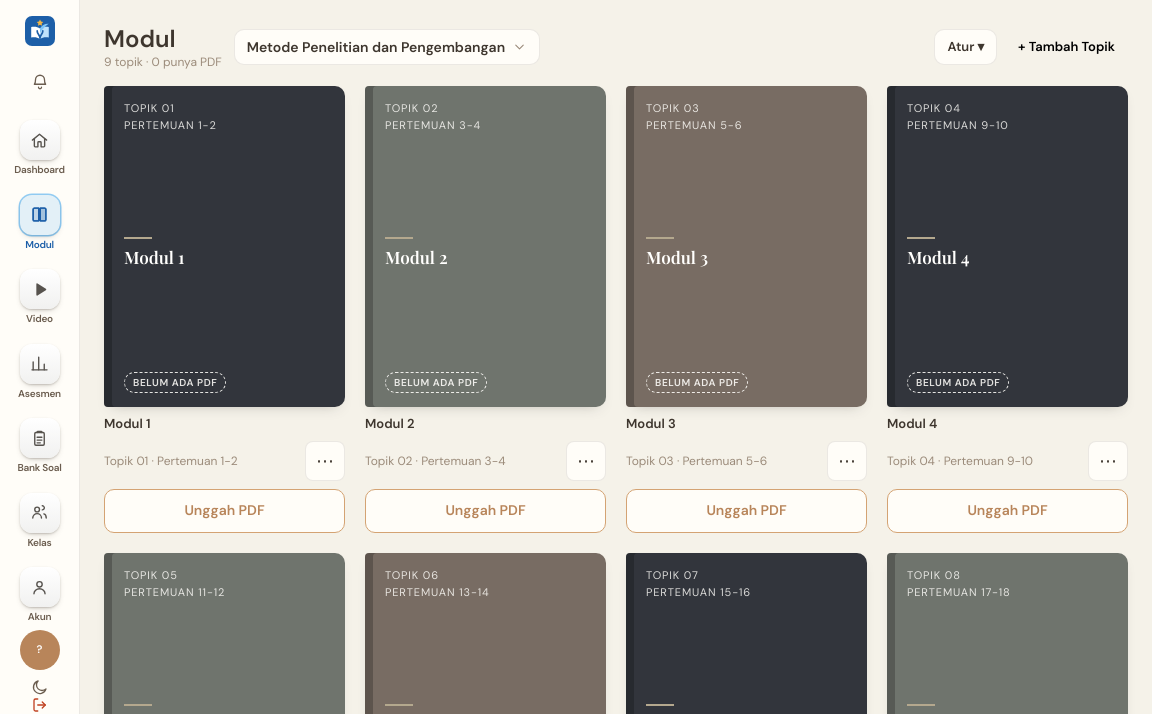
Test case: ModulList › shows a PDF file input in the Tambah Topik modal
Click the button "+ Tambah Topik": (1067, 47) [1005,29,1128,65]
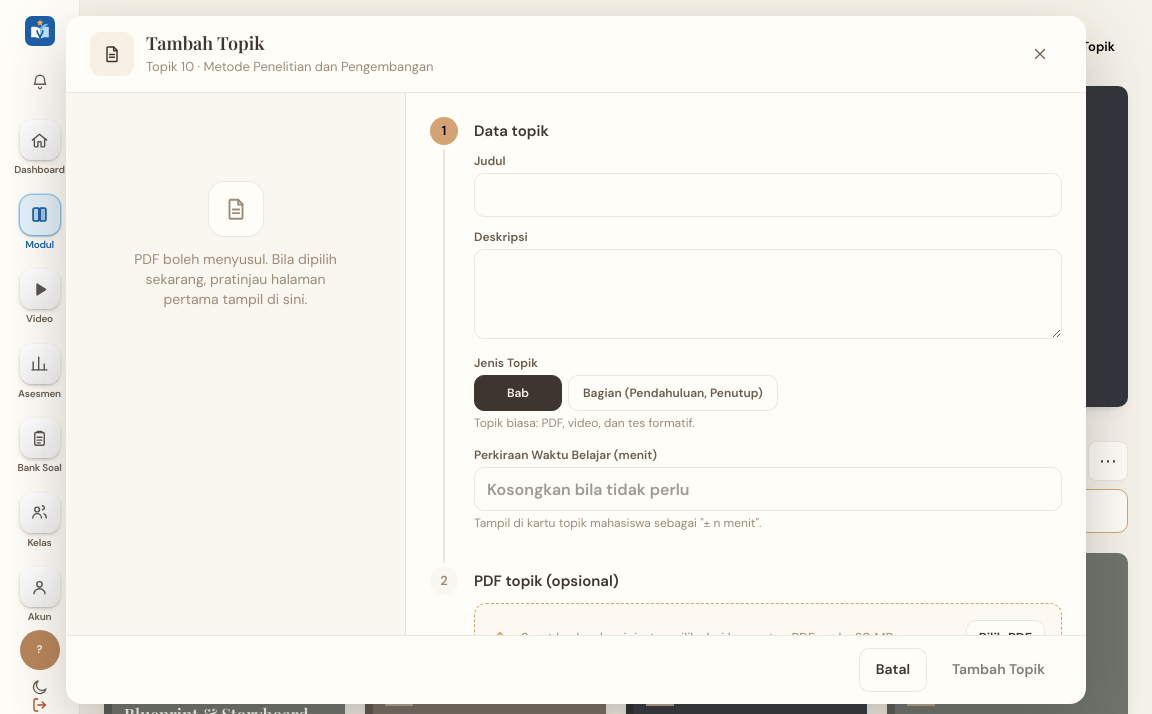
Check: the text "PDF topik (opsional)" is shown, box [474,571,619,591]
